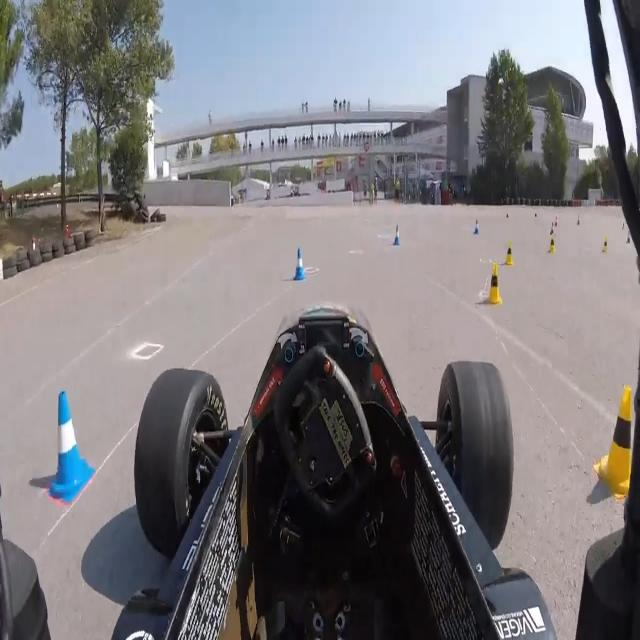blue_cone: (46, 391, 94, 502), (294, 248, 305, 285), (393, 224, 402, 246), (473, 219, 480, 237), (550, 220, 556, 237)
yellow_cone: (598, 384, 634, 494), (486, 263, 504, 303), (505, 242, 513, 266), (549, 236, 556, 254), (602, 236, 608, 254)
